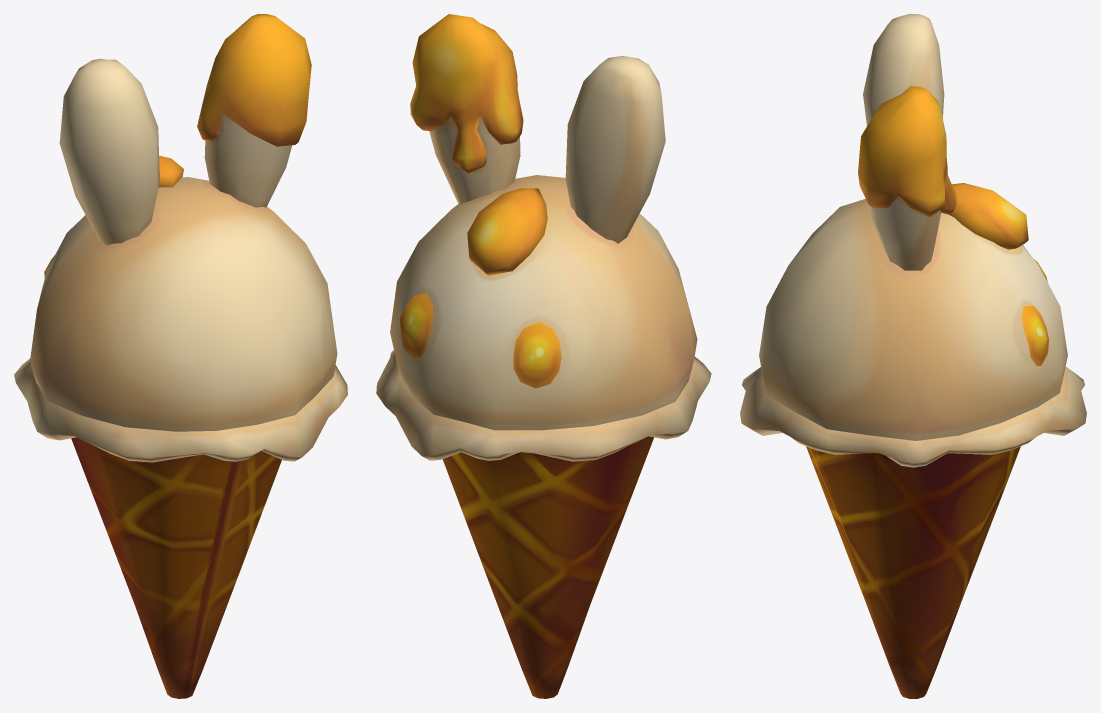
The model's file is honeybunny.fbx.
The picture shows the model from 3 angles, left to right: view 1: azimuth 30°, elevation 25°; view 2: azimuth 150°, elevation 25°; view 3: azimuth 270°, elevation 25°; orthographic projection. The views are drawn at different scales.
Parts seen in each view (by area): view 1: honeybunny; view 2: honeybunny; view 3: honeybunny.
Boxes of the visible parts, x1,y1,x2,y2 form: honeybunny: [14, 14, 347, 698]; honeybunny: [376, 14, 711, 698]; honeybunny: [740, 14, 1086, 698].
Size of the model in its own units: 68.65 by 148 by 72.07.
1 material, 1 textured.
